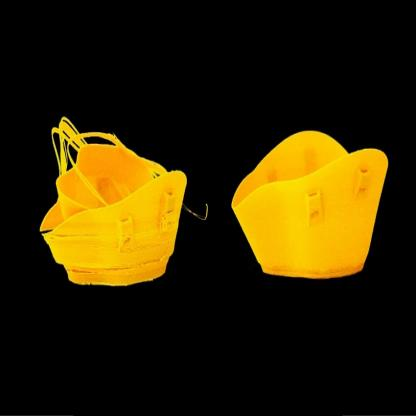fail: (68, 224, 172, 282), (50, 118, 79, 169)
